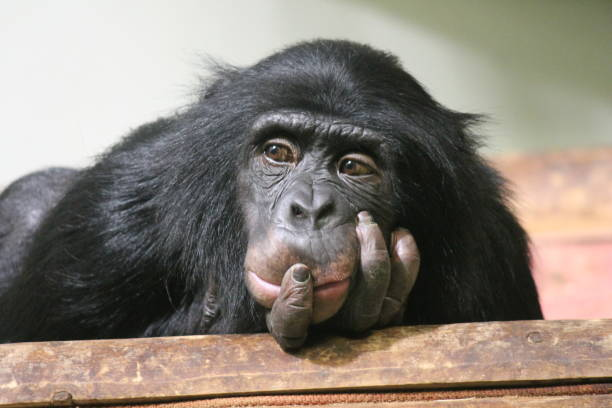chimpanzee: (38, 26, 545, 343)
